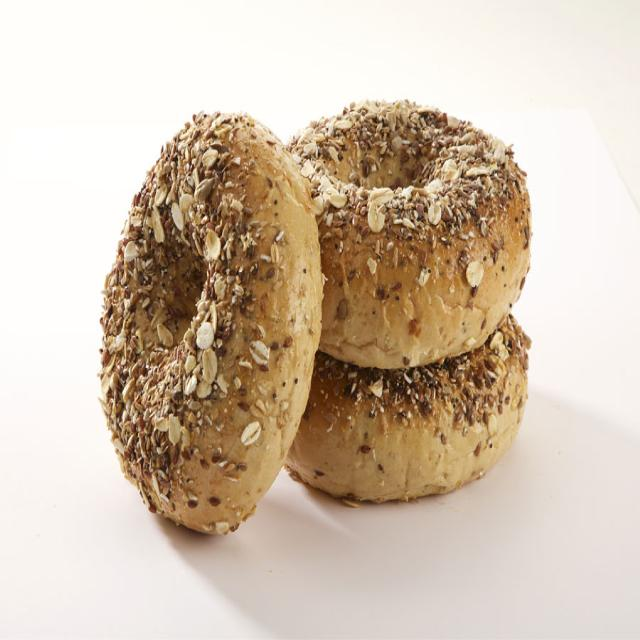Bagel: (101, 114, 322, 532), (289, 101, 531, 368), (286, 315, 531, 501)
